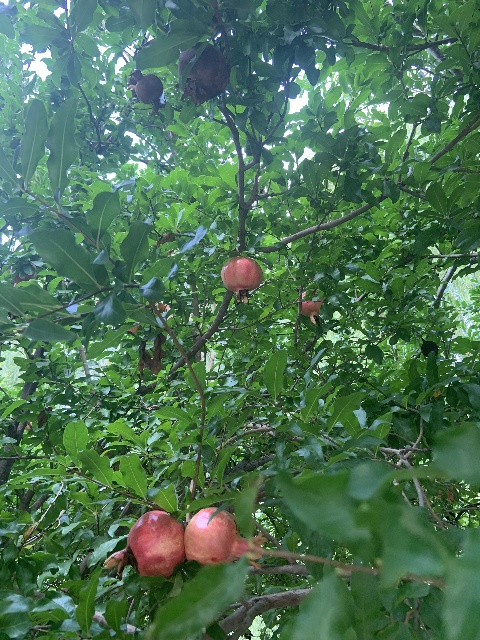ripe: (107, 510, 185, 580), (183, 506, 264, 569), (221, 256, 262, 303), (299, 291, 323, 326)
